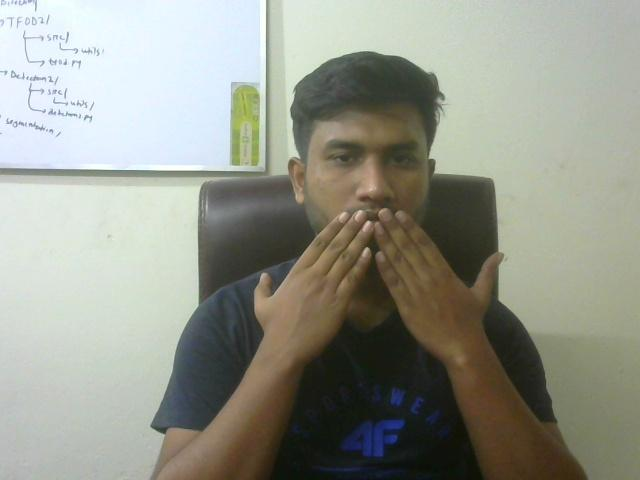Thanks: (231, 205, 528, 361)
